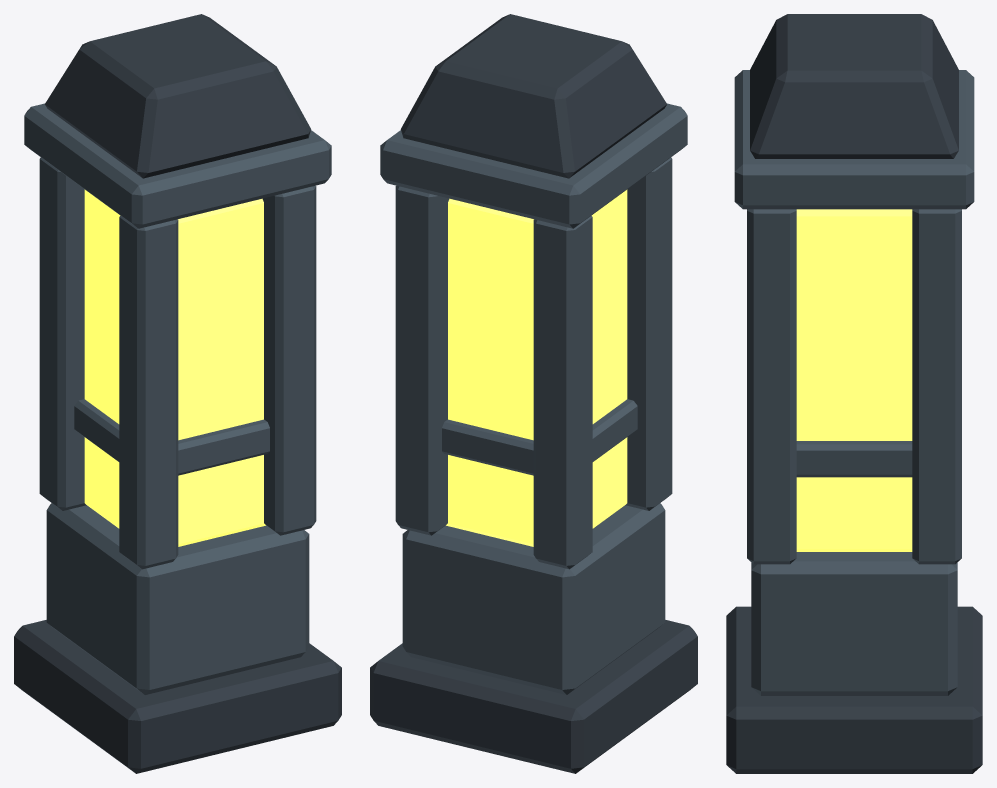
The model's file is Court_StandingLamp.fbx.
The picture shows the model from 3 angles, left to right: view 1: azimuth 30°, elevation 25°; view 2: azimuth 150°, elevation 25°; view 3: azimuth 270°, elevation 25°; orthographic projection. The views are drawn at different scales.
Parts seen in each view (by area): view 1: Frame, FrameDark, Glow; view 2: Frame, FrameDark, Glow; view 3: Frame, FrameDark, Glow.
Part boxes in pixels (x1=…): Frame: x1=24, y1=103, x2=331, y2=694; FrameDark: x1=14, y1=14, x2=341, y2=773; Glow: x1=84, y1=189, x2=265, y2=546; Frame: x1=380, y1=103, x2=687, y2=694; FrameDark: x1=370, y1=14, x2=697, y2=773; Glow: x1=446, y1=189, x2=627, y2=546; Frame: x1=734, y1=70, x2=974, y2=695; FrameDark: x1=726, y1=14, x2=982, y2=773; Glow: x1=796, y1=209, x2=912, y2=551.
Bounding box in the file's own units: 1.55 × 4.55 × 1.55.
